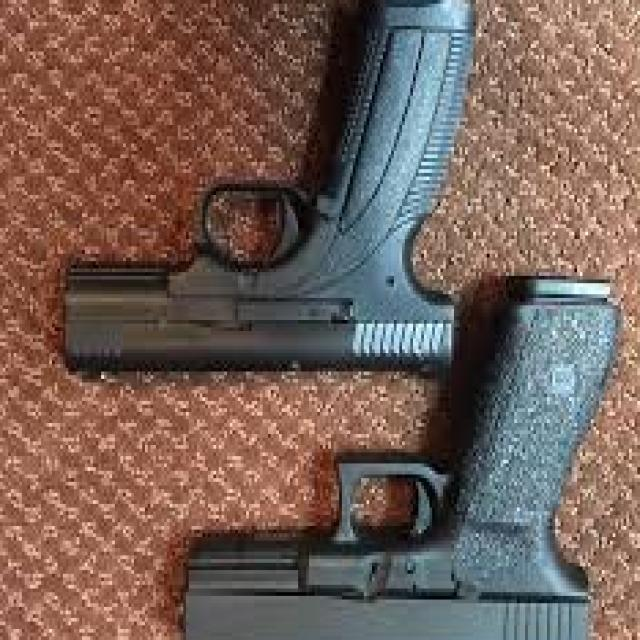Gun: (63, 0, 511, 390), (167, 276, 640, 640)
